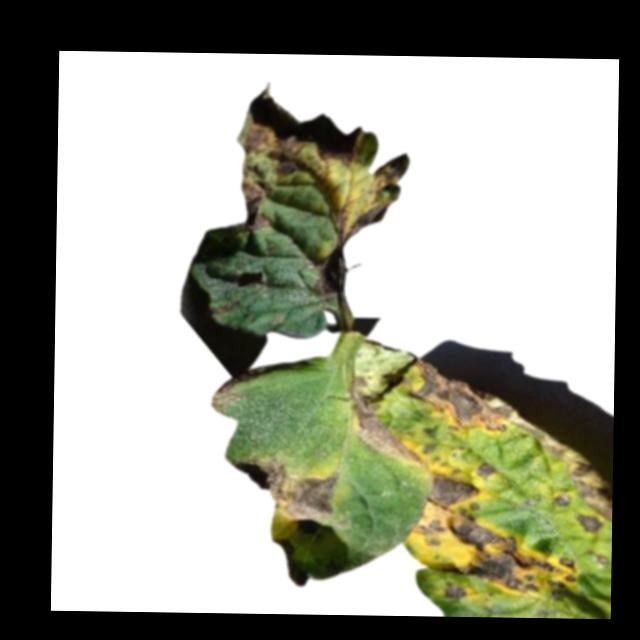Early_blight: (406, 345, 613, 593), (235, 84, 413, 304), (228, 464, 340, 527), (347, 388, 423, 464), (211, 378, 244, 410), (444, 581, 468, 603), (213, 301, 240, 317)
